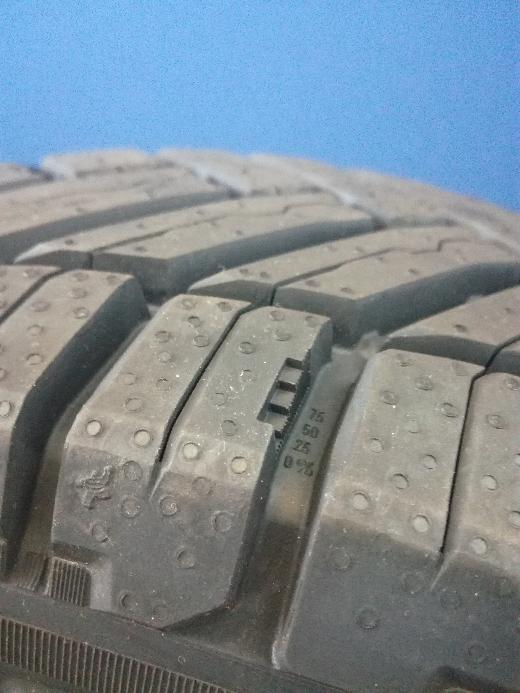temoin:100: (256, 348, 313, 464)
